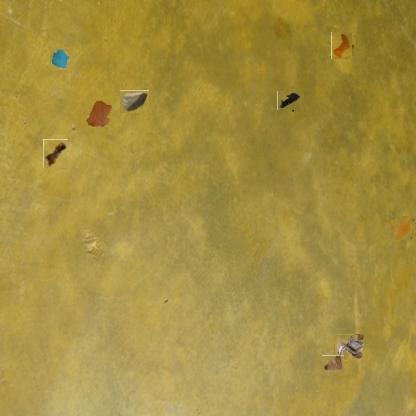dirty: (334, 334, 364, 360), (43, 139, 68, 168), (119, 90, 149, 113), (330, 33, 354, 58), (50, 47, 72, 69), (278, 90, 300, 111), (322, 355, 344, 372)
liquid: (84, 100, 112, 128), (392, 218, 414, 238)
